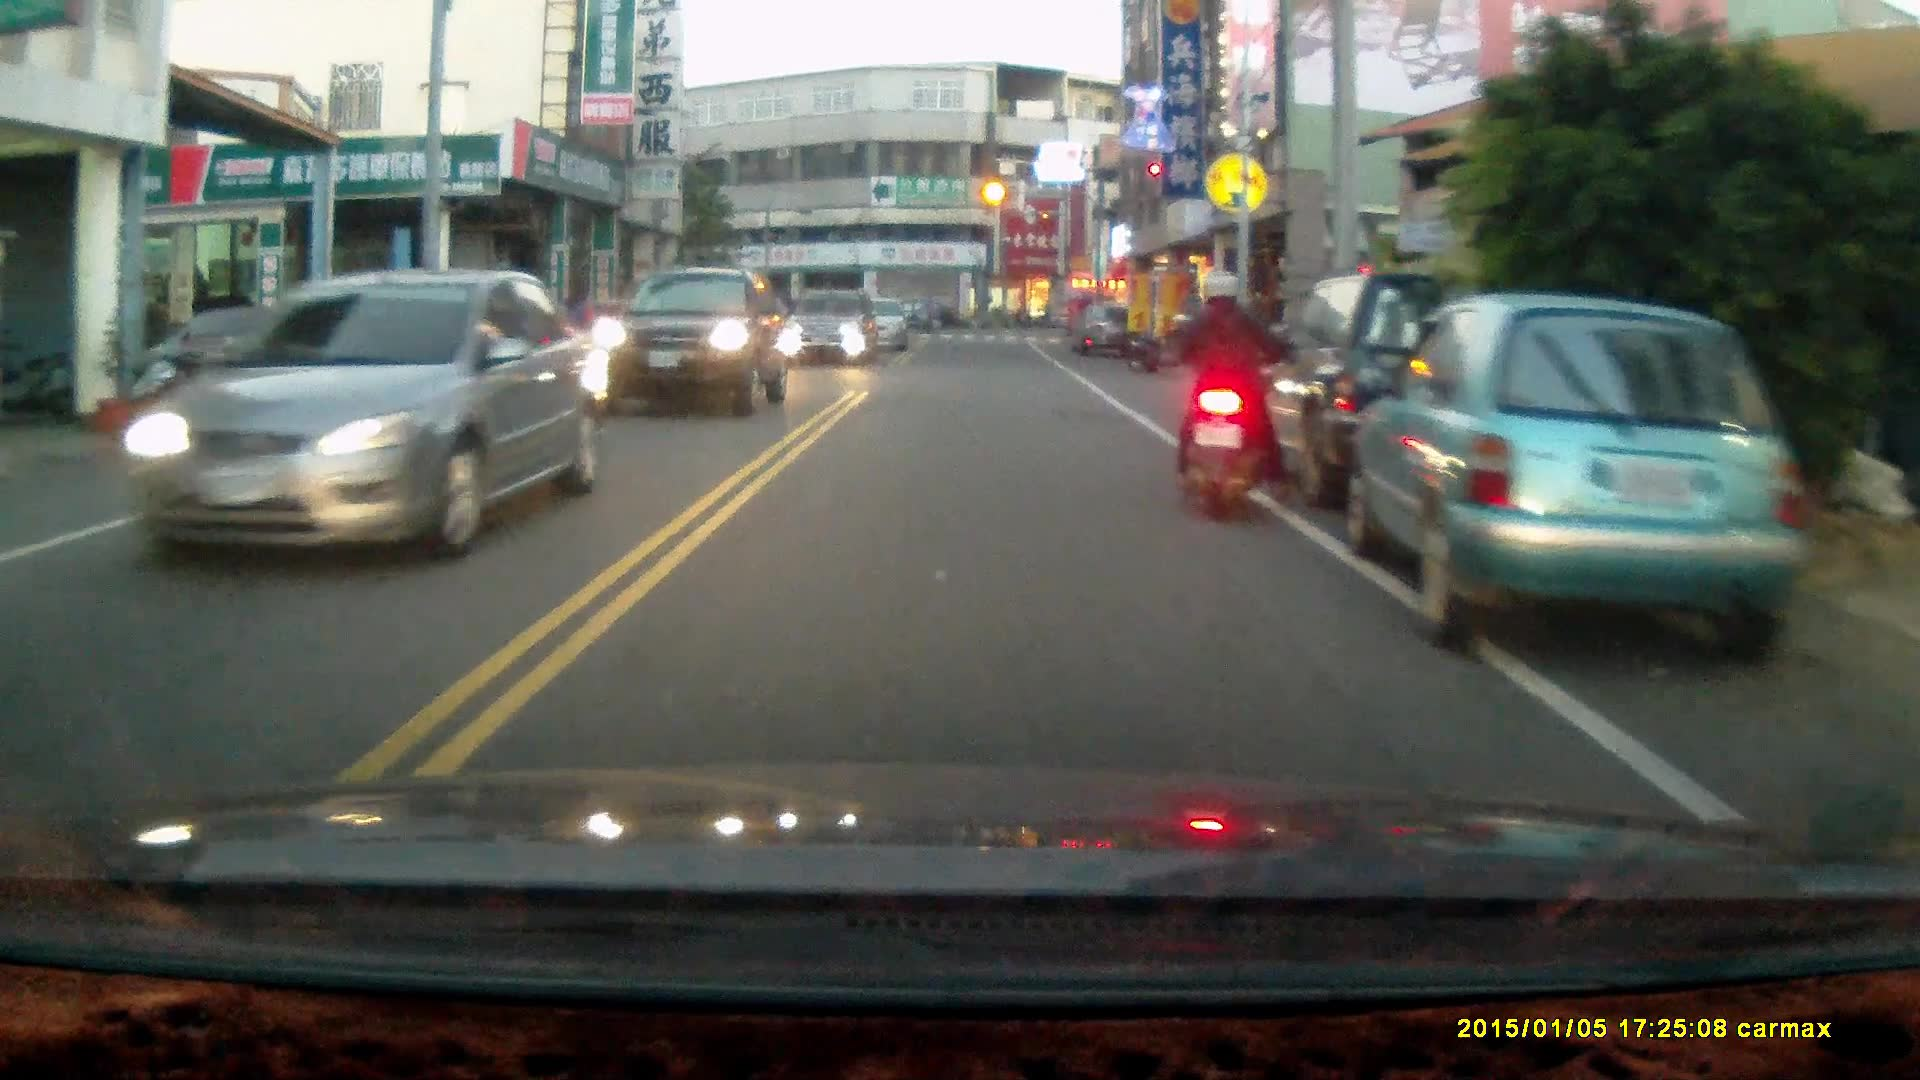rider: (1168, 266, 1288, 523)
vehicle: (1345, 291, 1815, 656), (111, 271, 598, 567), (1219, 269, 1579, 510), (595, 266, 788, 416), (779, 288, 882, 367), (1068, 301, 1138, 358)
